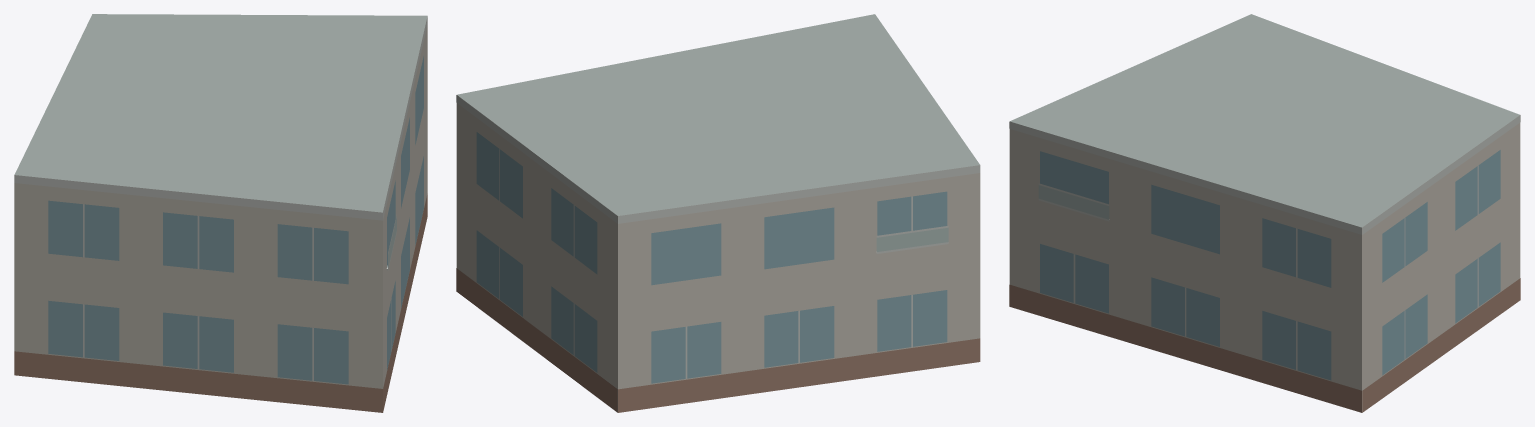
The model's file is survey-upis-32975761.glb.
The picture shows the model from 3 angles, left to right: view 1: azimuth 30°, elevation 25°; view 2: azimuth 150°, elevation 25°; view 3: azimuth 270°, elevation 25°; orthographic projection. The views are drawn at different scales.
Visible parts, largest first — view 1: survey-upis-32975761.tmp; view 2: survey-upis-32975761.tmp; view 3: survey-upis-32975761.tmp.
Part boxes in pixels (box(x1,y1,x2,y2)): survey-upis-32975761.tmp: box(14, 14, 427, 412); survey-upis-32975761.tmp: box(456, 14, 980, 412); survey-upis-32975761.tmp: box(1009, 14, 1520, 412).
Bounding box in the file's own units: 15.09 × 6.1 × 15.25.
